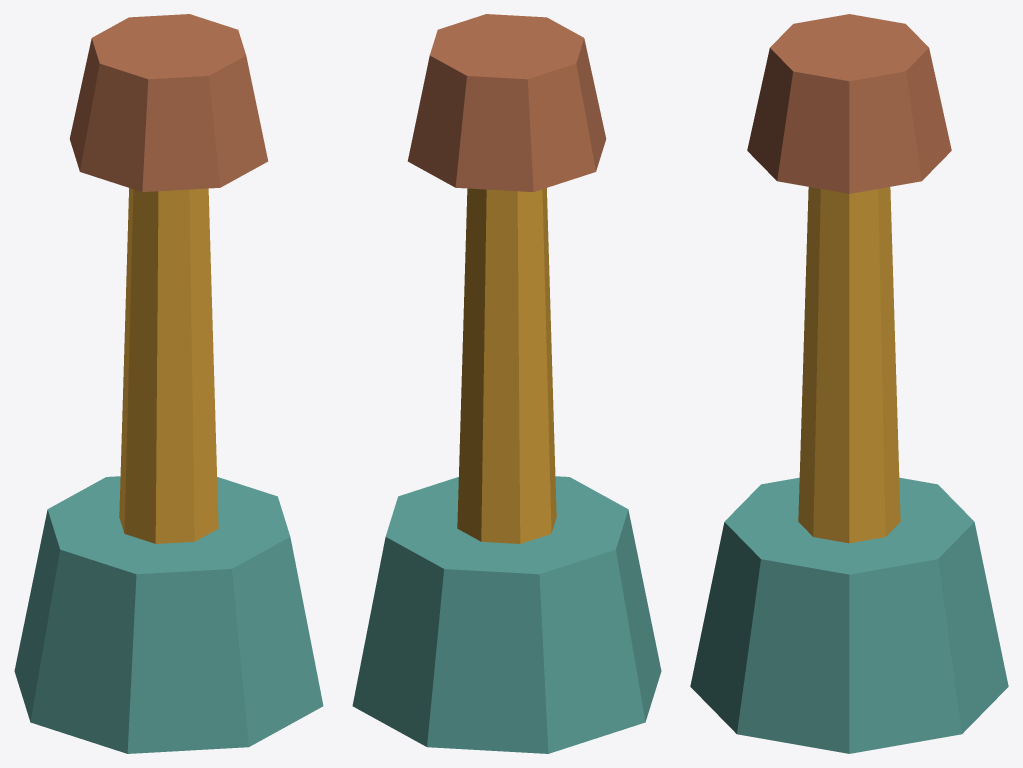
Rendered from hookah.glb.
The picture shows the model from 3 angles, left to right: view 1: azimuth 30°, elevation 25°; view 2: azimuth 150°, elevation 25°; view 3: azimuth 270°, elevation 25°; orthographic projection.
Parts seen in each view (by area): view 1: hookah-col; view 2: hookah-col; view 3: hookah-col.
Boxes of the visible parts, bbox=[...] form: hookah-col: bbox=[14, 14, 323, 753]; hookah-col: bbox=[352, 14, 661, 753]; hookah-col: bbox=[690, 14, 1008, 753].
Size of the model in its own units: 0.28 by 0.62 by 0.28.
